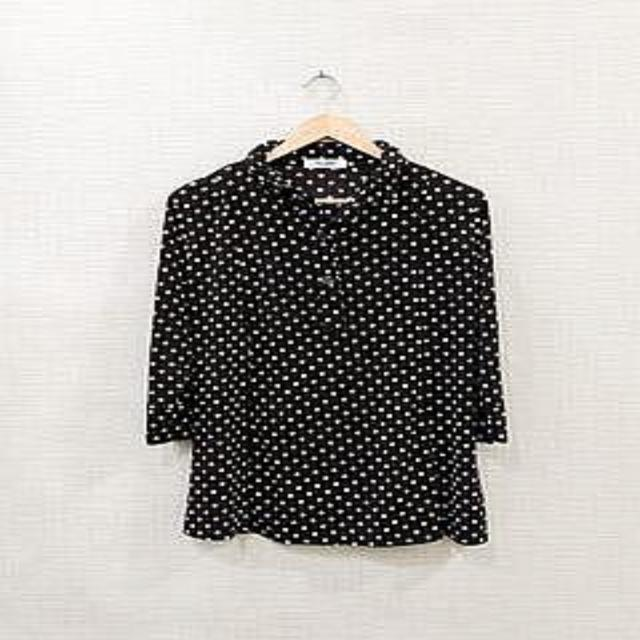SHIRT: (119, 121, 569, 557)
